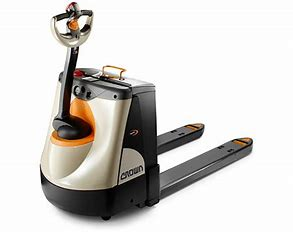Pallet Jack: (33, 1, 256, 222)
